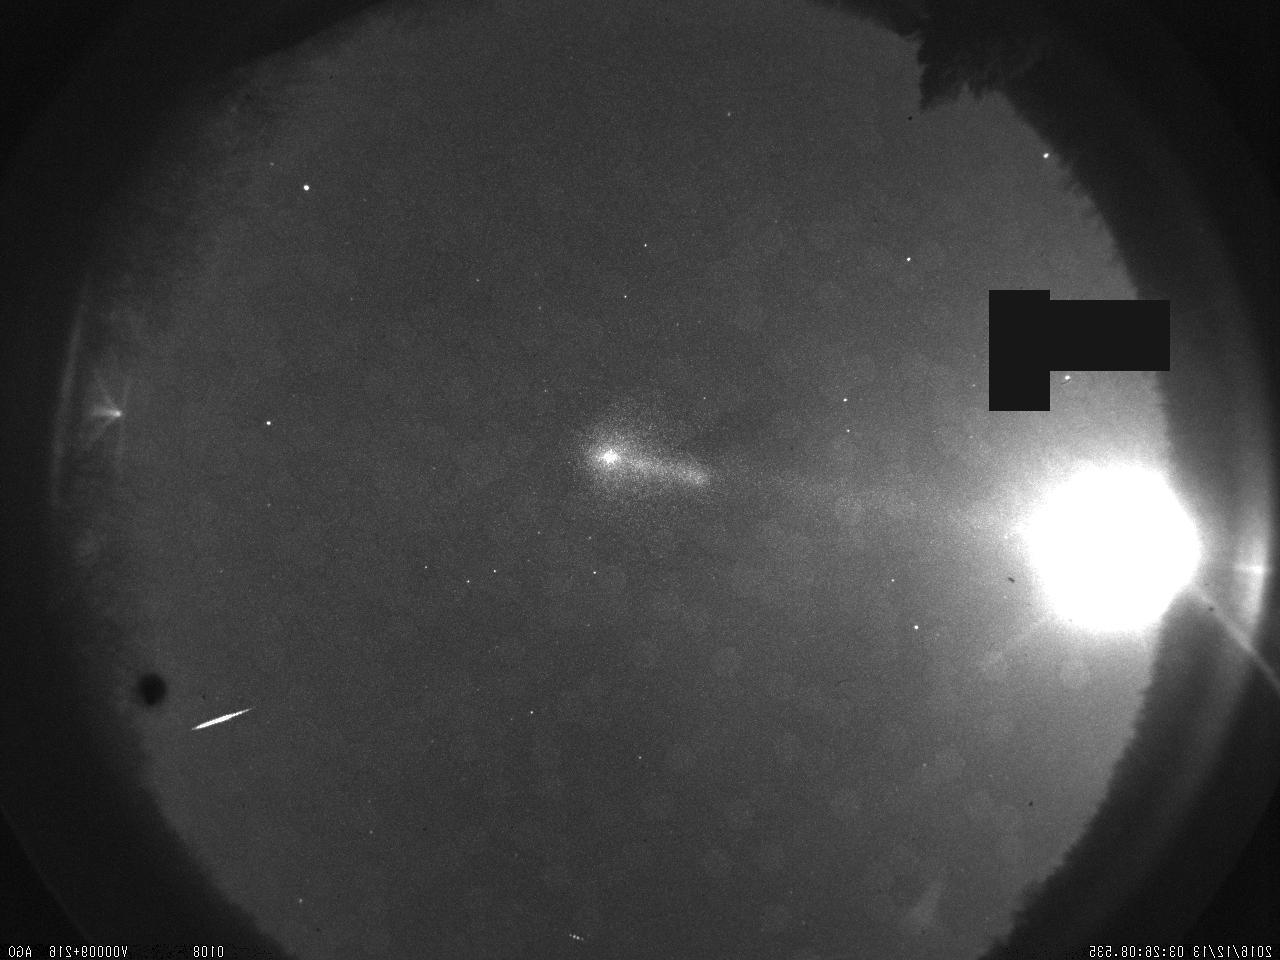meteor: (174, 690, 268, 766)
